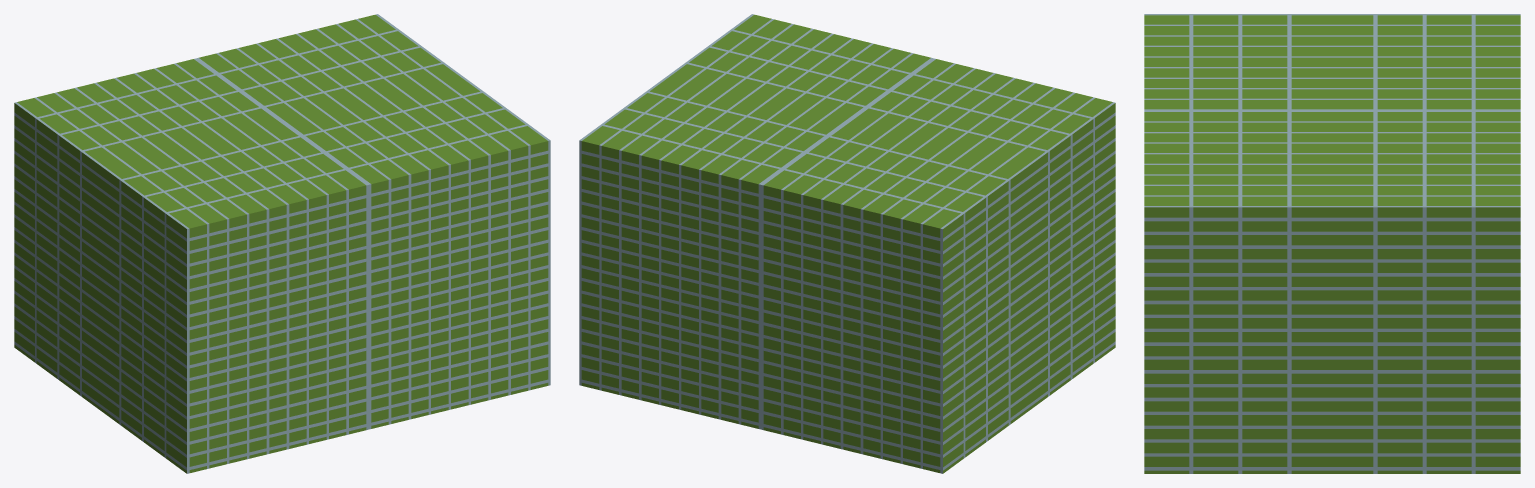
Rendered from Booty01.fbx.
3 views of the same model, side by side, from view 1: azimuth 30°, elevation 25°; view 2: azimuth 150°, elevation 25°; view 3: azimuth 270°, elevation 25° (orthographic). The views are drawn at different scales.
Visible parts, largest first — view 1: Cube.008; view 2: Cube.008; view 3: Cube.008.
Part boxes in pixels (x1,y1,x2,y2): Cube.008: (14,14,550,473); Cube.008: (579,14,1115,473); Cube.008: (1144,14,1520,473).
Size of the model in its own units: 161 by 104 by 132.
1 material, 1 textured.
